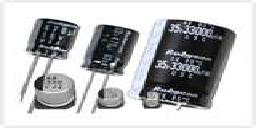Electrolytic-Capacitor: (133, 12, 232, 110), (81, 23, 141, 76), (27, 15, 81, 65), (33, 71, 79, 110), (97, 85, 126, 111)
